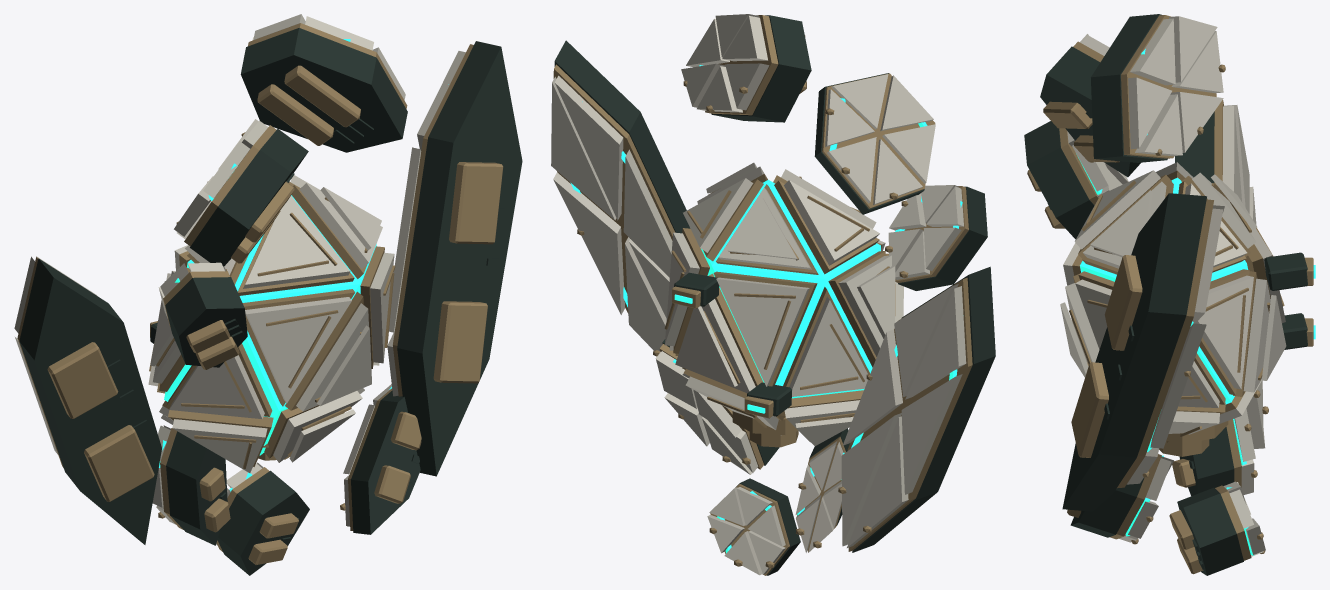
The model's file is prism_v1.glb.
3 renders of one model, left to right at view 1: azimuth 30°, elevation 25°; view 2: azimuth 150°, elevation 25°; view 3: azimuth 270°, elevation 25°, orthographic. The views are drawn at different scales.
Parts seen in each view (by area): view 1: prism_batch_prism_dark_strata, prism_batch_prism_aged_brass, prism_batch_prism_mineral_ceramic, prism_batch_prism_emerald_fissures; view 2: prism_batch_prism_mineral_ceramic, prism_batch_prism_aged_brass, prism_batch_prism_dark_strata, prism_batch_prism_emerald_fissures; view 3: prism_batch_prism_mineral_ceramic, prism_batch_prism_dark_strata, prism_batch_prism_aged_brass, prism_batch_prism_emerald_fissures.
Boxes of the visible parts, x1,y1,x2,y2 form: prism_batch_prism_dark_strata: [19, 28, 522, 575]; prism_batch_prism_aged_brass: [17, 23, 503, 564]; prism_batch_prism_mineral_ceramic: [14, 14, 465, 544]; prism_batch_prism_emerald_fissures: [159, 39, 448, 491]; prism_batch_prism_mineral_ceramic: [551, 14, 966, 575]; prism_batch_prism_aged_brass: [553, 15, 972, 575]; prism_batch_prism_dark_strata: [554, 15, 995, 575]; prism_batch_prism_emerald_fissures: [570, 65, 962, 553]; prism_batch_prism_mineral_ceramic: [1060, 16, 1286, 556]; prism_batch_prism_dark_strata: [1024, 14, 1307, 575]; prism_batch_prism_aged_brass: [1027, 15, 1313, 574]; prism_batch_prism_emerald_fissures: [1076, 49, 1315, 555].
Bounding box in the file's own units: 2.66 × 3.04 × 1.39.
